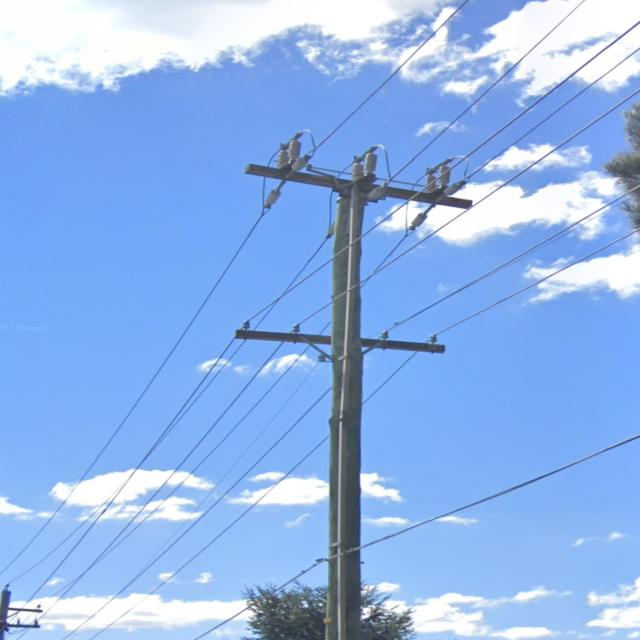HV-transmission: (246, 129, 471, 233)
crossarm: (244, 162, 474, 208), (234, 329, 444, 352)
timber-pole: (324, 177, 371, 633)
